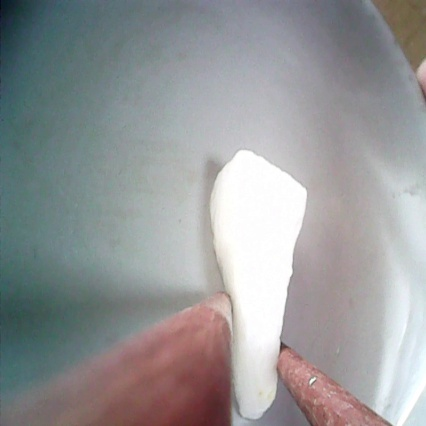white_chinese-yam: (203, 148, 315, 418)
